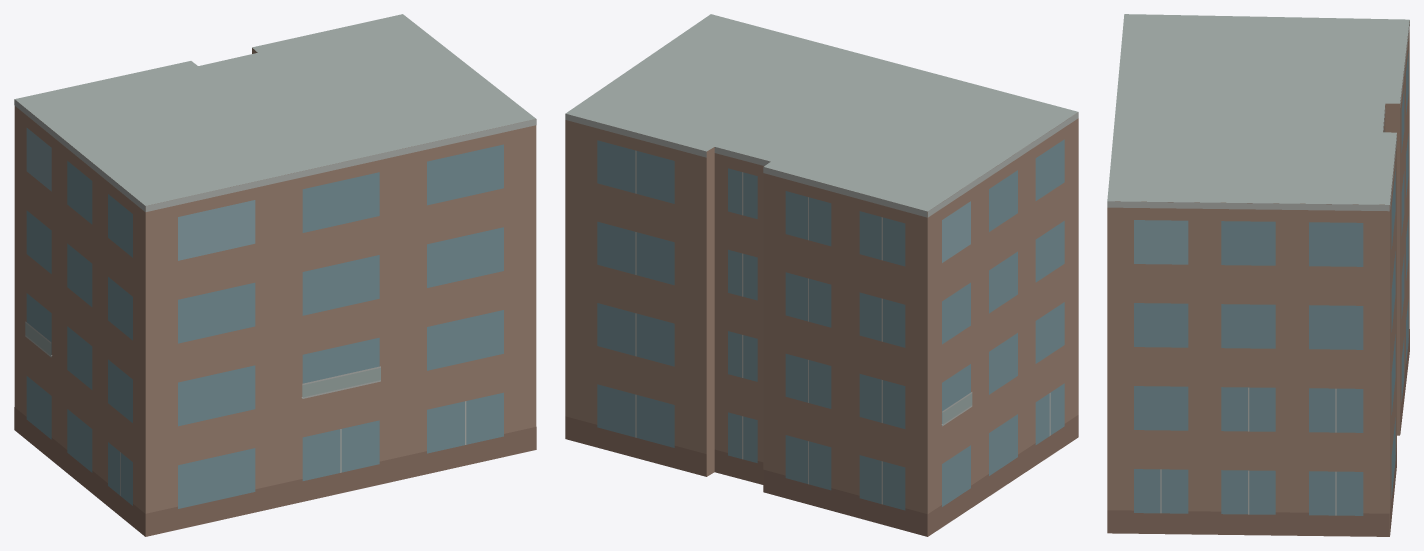
File: survey-upis-32976236.glb
3 renders of one model, left to right at view 1: azimuth 30°, elevation 25°; view 2: azimuth 150°, elevation 25°; view 3: azimuth 270°, elevation 25°, orthographic. The views are drawn at different scales.
Visible parts, largest first — view 1: survey-upis-32976236.tmp; view 2: survey-upis-32976236.tmp; view 3: survey-upis-32976236.tmp.
Boxes of the visible parts, bbox=[...] form: survey-upis-32976236.tmp: bbox=[14, 14, 536, 536]; survey-upis-32976236.tmp: bbox=[565, 14, 1078, 536]; survey-upis-32976236.tmp: bbox=[1107, 14, 1409, 536].
Size of the model in its own units: 15.79 by 12.8 by 10.58.
